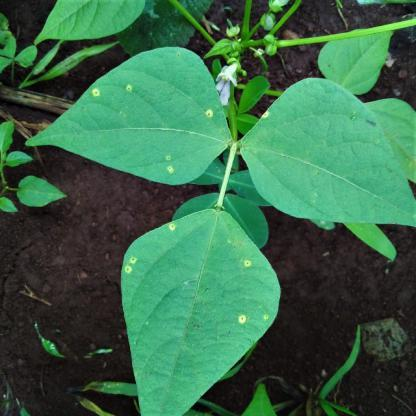Beans_Rust: (123, 208, 281, 416), (24, 44, 231, 184), (238, 78, 416, 227)
